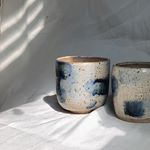cups: (53, 54, 113, 116), (111, 61, 150, 126)
